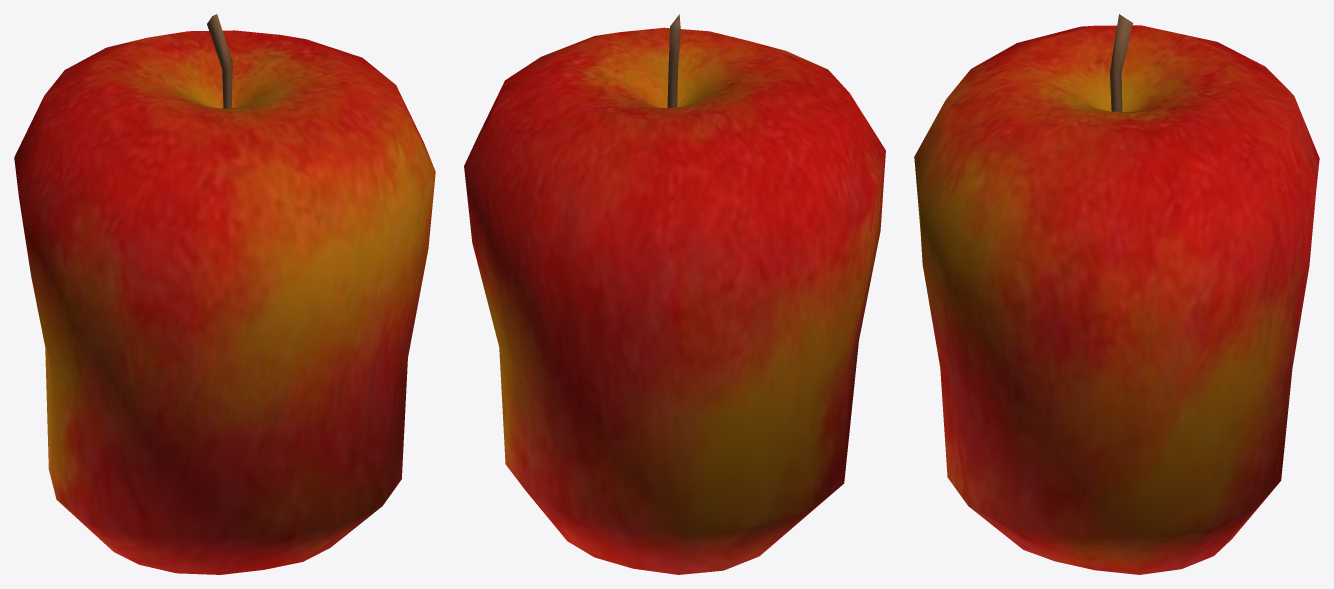
File: apple.glb
3 views of the same model, side by side, from view 1: azimuth 30°, elevation 25°; view 2: azimuth 150°, elevation 25°; view 3: azimuth 270°, elevation 25° (orthographic). The views are drawn at different scales.
Visible parts, largest first — view 1: Apple_13; view 2: Apple_13; view 3: Apple_13.
Part boxes in pixels (left/top/right/bottom): Apple_13: left=14, top=14, right=435, bottom=574; Apple_13: left=464, top=14, right=885, bottom=574; Apple_13: left=914, top=14, right=1319, bottom=574.
Size of the model in its own units: 0.086 by 0.1181 by 0.0841.
1 material, 1 textured.
